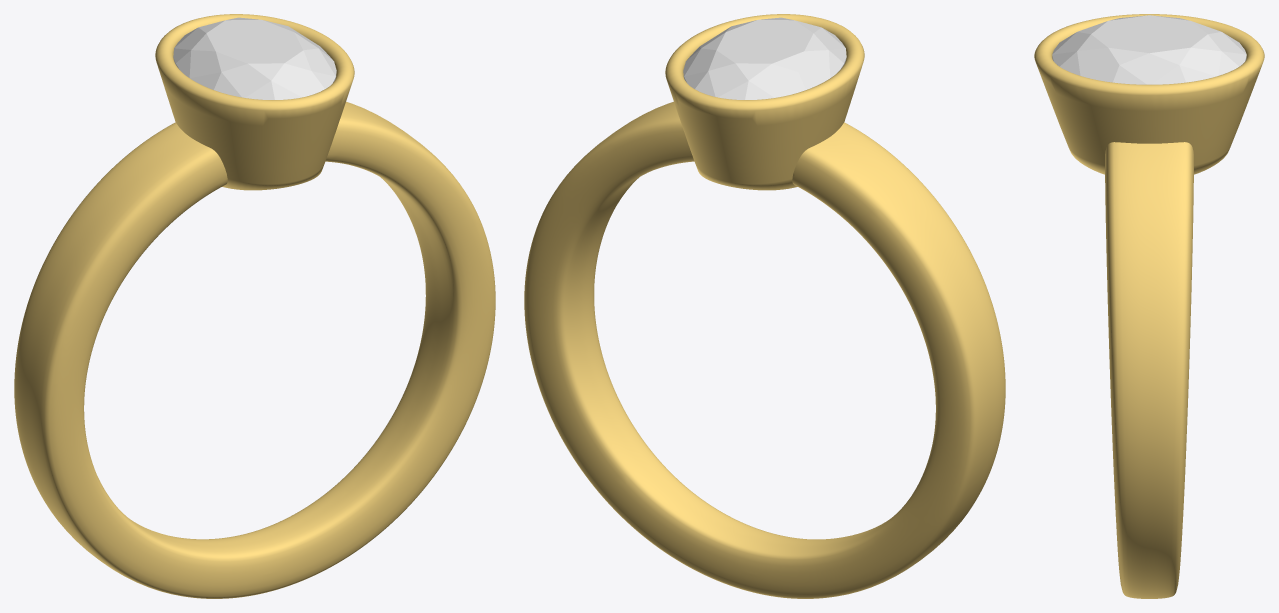
Rendered from diamond-oval-yellowgold-bezelset-straighttaperedband-nosidestones.glb.
3 views of the same model, side by side, from view 1: azimuth 30°, elevation 25°; view 2: azimuth 150°, elevation 25°; view 3: azimuth 270°, elevation 25° (orthographic).
Parts seen in each view (by area): view 1: metal, stone; view 2: metal, stone; view 3: metal, stone.
Boxes of the visible parts, box(x1,y1,x2,y2) form: metal: box(14, 14, 495, 598); stone: box(173, 17, 336, 99); metal: box(524, 14, 1005, 598); stone: box(683, 17, 846, 99); metal: box(1034, 14, 1264, 598); stone: box(1052, 15, 1246, 84).
Size of the model in its own units: 20.49 by 23.41 by 9.04.
